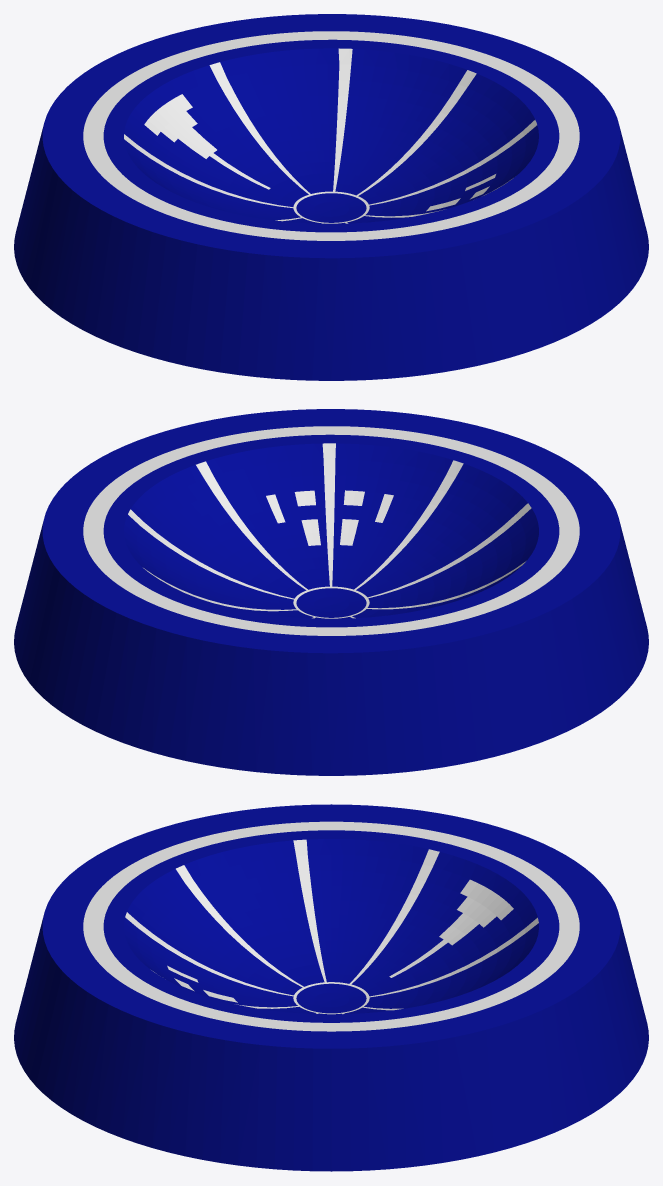
Rendered from Stadium.dae.
The picture shows the model from 3 angles, top to bottom: view 1: azimuth 30°, elevation 25°; view 2: azimuth 150°, elevation 25°; view 3: azimuth 270°, elevation 25°; orthographic projection.
Parts seen in each view (by area): view 1: 3MF Object; view 2: 3MF Object; view 3: 3MF Object.
Boxes of the visible parts, x1,y1,x2,y2 form: 3MF Object: (14, 14, 648, 380); 3MF Object: (14, 409, 648, 775); 3MF Object: (14, 804, 648, 1171).
Size of the model in its own units: 3.12 by 3.12 by 0.6.
